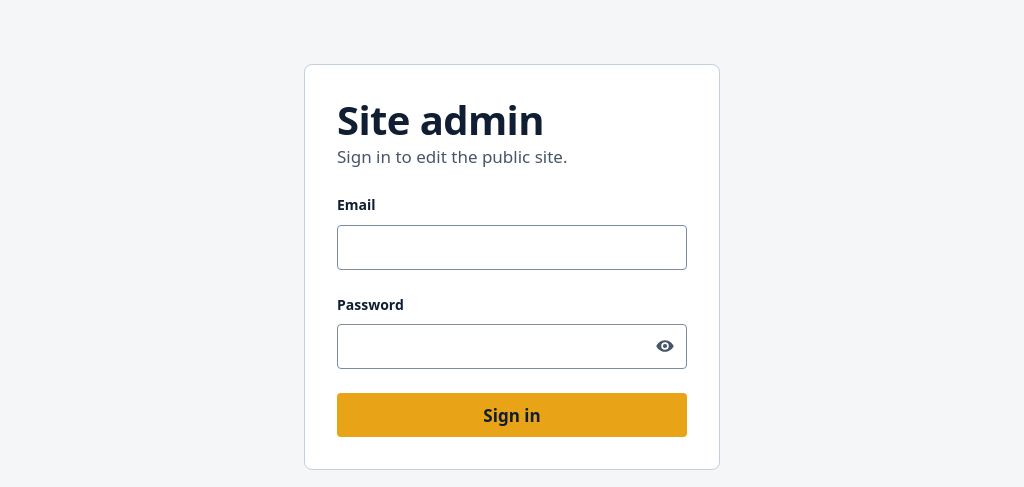
it: admin session › signs in and opens the dashboard
This screenshot has width=1024, height=487.
Step 1. Type "admin@example.com" into the field labelled "Email" → (512, 247), box top-left (337, 225), bottom-right (687, 270)
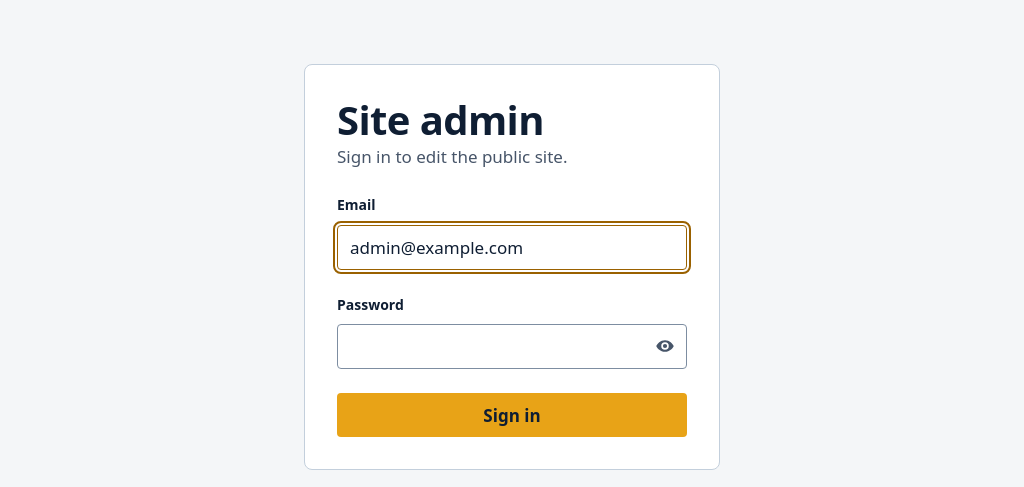
Step 2. Type "a-long-enough-password" into the password field labelled "Password" → (512, 347), box top-left (337, 324), bottom-right (687, 369)
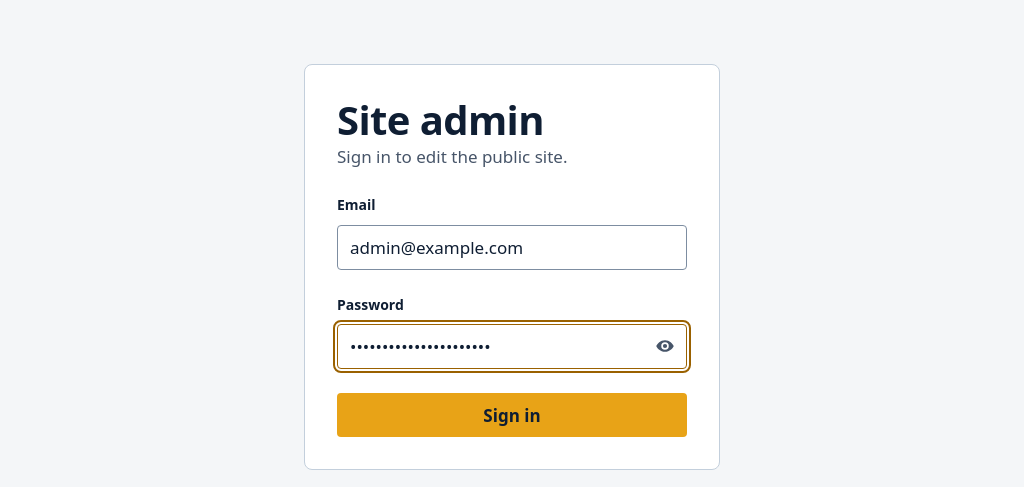
Step 3. Click the button "Sign in" → click(512, 415), box top-left (337, 393), bottom-right (687, 437)
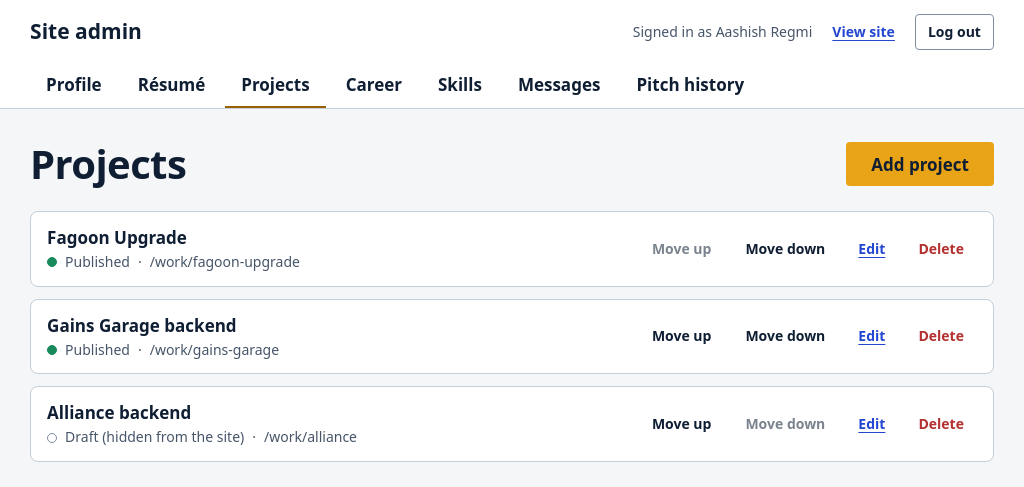
Check: the heading "Projects" is shown, box top-left (30, 141), bottom-right (186, 187)
